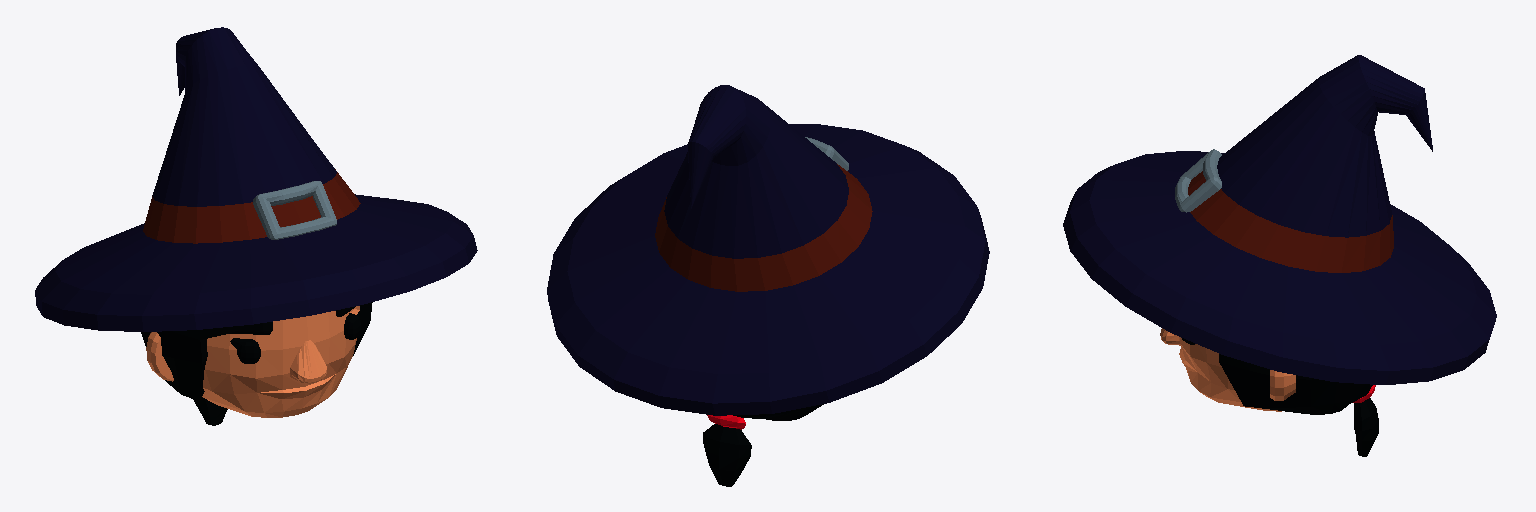
Rendered from character_mageHead.obj.
The picture shows the model from 3 angles: view 1: azimuth 30°, elevation 25°; view 2: azimuth 150°, elevation 25°; view 3: azimuth 270°, elevation 25°; orthographic projection.
Visible parts, largest first — view 1: character_mageHat_Cube.021, character_mageHead_Cube.016, character_mageHair_Cube.017; view 2: character_mageHat_Cube.021, character_mageHair_Cube.017; view 3: character_mageHat_Cube.021, character_mageHair_Cube.017, character_mageHead_Cube.016.
Part boxes in pixels (left/top/right/bottom): character_mageHat_Cube.021: left=35, top=27, right=477, bottom=331; character_mageHead_Cube.016: left=146, top=306, right=360, bottom=417; character_mageHair_Cube.017: left=141, top=302, right=372, bottom=425; character_mageHat_Cube.021: left=547, top=85, right=989, bottom=415; character_mageHair_Cube.017: left=703, top=404, right=823, bottom=486; character_mageHat_Cube.021: left=1063, top=55, right=1496, bottom=384; character_mageHair_Cube.017: left=1219, top=354, right=1378, bottom=456; character_mageHead_Cube.016: left=1160, top=328, right=1295, bottom=411.
Size of the model in its own units: 2.1 by 2.08 by 2.05.